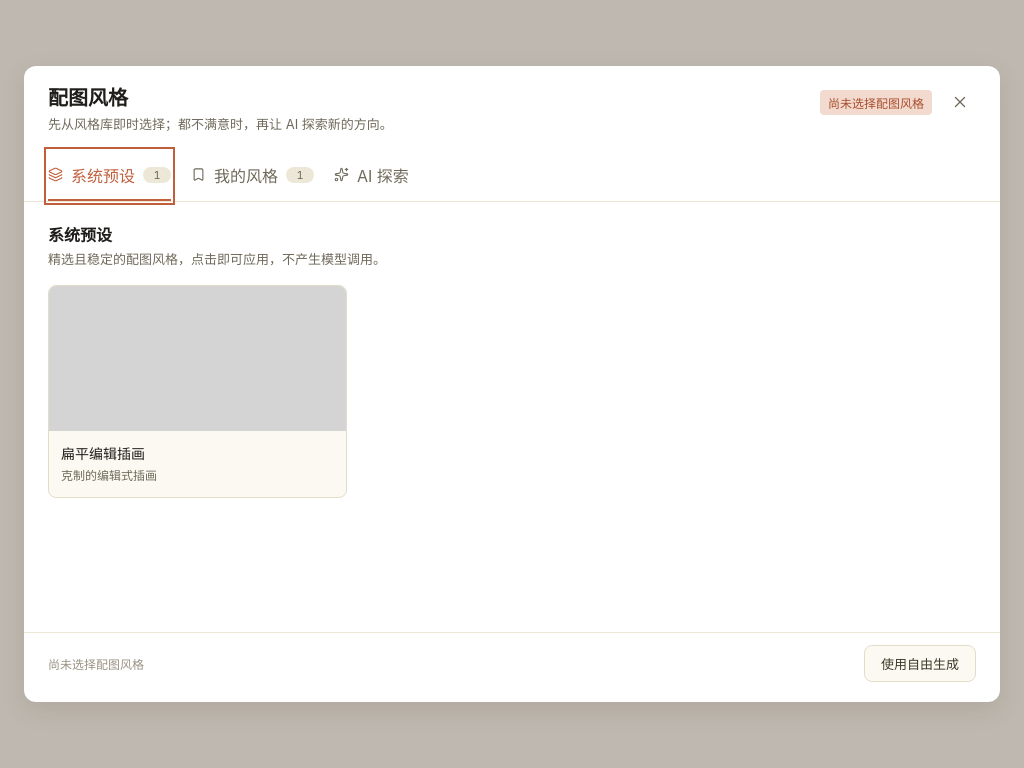
ImageStyleLibraryModal › AI 探索必须显式点击；完成后展示候选与保存按钮
The image size is (1024, 768).
Step 1. Click the tab "AI 探索" → (371, 176), box [334,151,409,201]
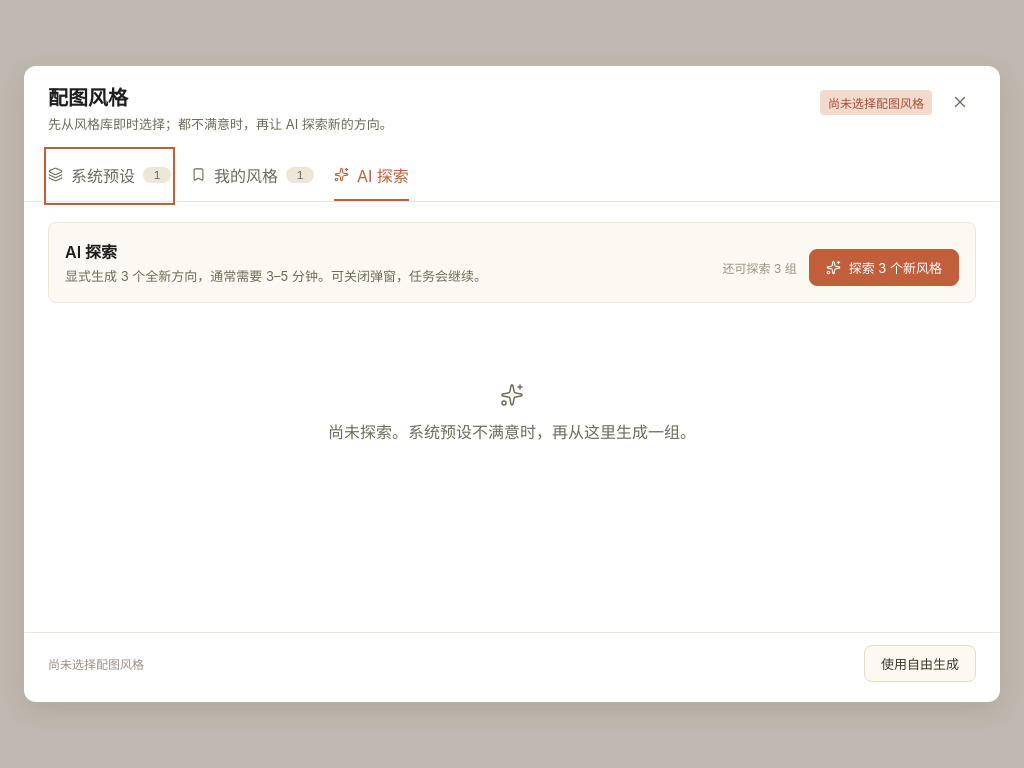
Step 2. Click the button "探索 3 个新风格" → (884, 268), box [809,249,959,286]
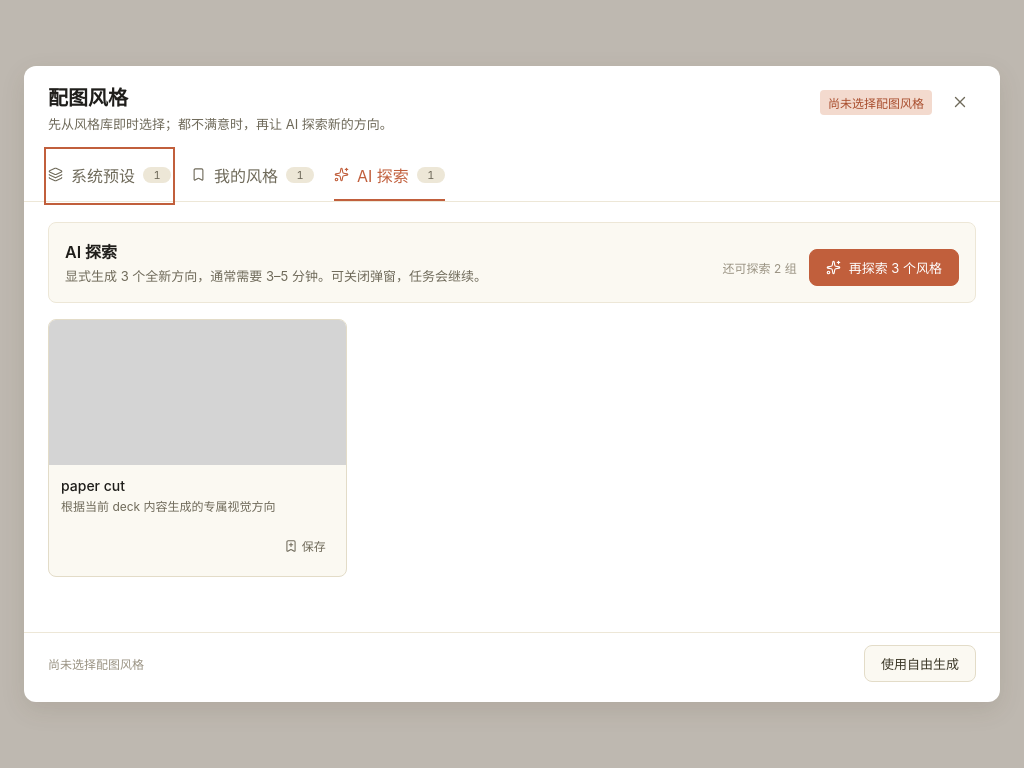
Now the button "保存" is shown, box [276,533,334,558]
